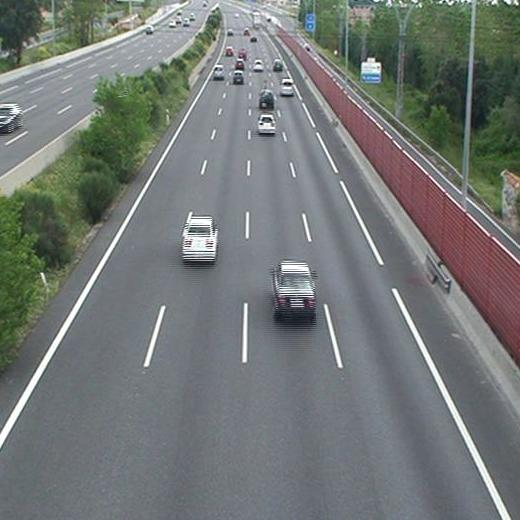car: (272, 264, 314, 313), (182, 218, 217, 261), (258, 116, 276, 133), (259, 90, 274, 108), (280, 79, 294, 95), (271, 58, 282, 70), (214, 66, 224, 78), (224, 46, 234, 58), (233, 73, 245, 82), (235, 60, 245, 70), (253, 60, 263, 69)
